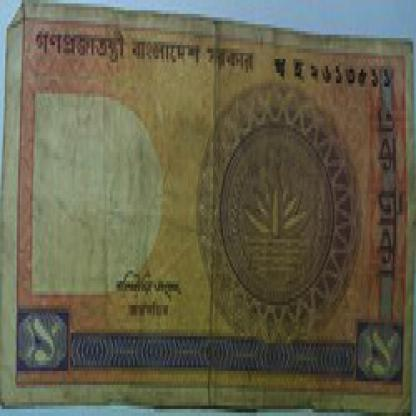One Taka: (371, 97, 406, 295), (18, 309, 67, 374), (358, 319, 404, 385)
